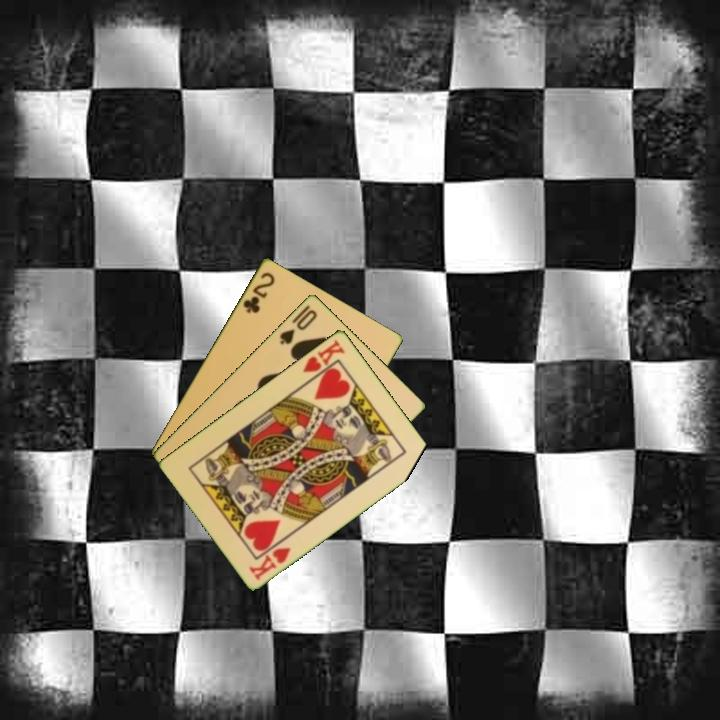10s: (276, 305, 320, 347)
2c: (239, 268, 278, 316)
Kh: (299, 336, 348, 384), (245, 543, 294, 583)
